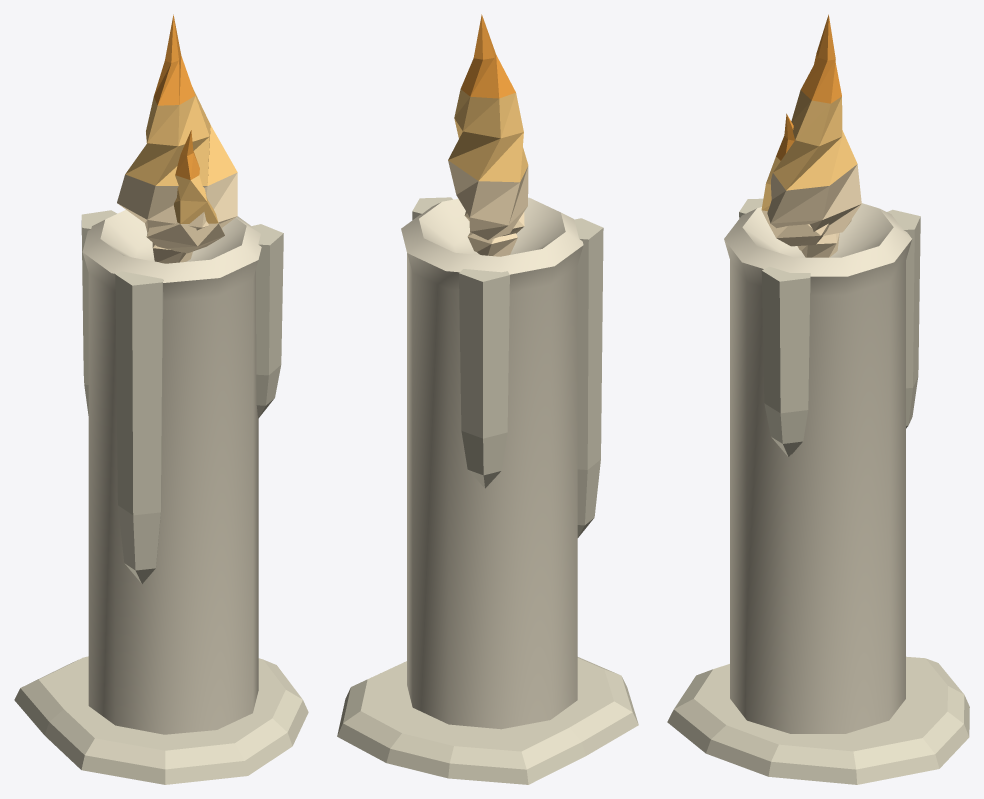
Rendered from SM_LPD_Light_CandleSingle_01.fbx.
The picture shows the model from 3 angles, left to right: view 1: azimuth 30°, elevation 25°; view 2: azimuth 150°, elevation 25°; view 3: azimuth 270°, elevation 25°; orthographic projection.
Visible parts, largest first — view 1: SM_LPD_Light_CandleSingle_01; view 2: SM_LPD_Light_CandleSingle_01; view 3: SM_LPD_Light_CandleSingle_01.
Part boxes in pixels (x1,y1,x2,y2): SM_LPD_Light_CandleSingle_01: (14,14,308,784); SM_LPD_Light_CandleSingle_01: (337,14,638,784); SM_LPD_Light_CandleSingle_01: (667,14,969,784).
Size of the model in its own units: 0.1112 by 0.303 by 0.1169.
